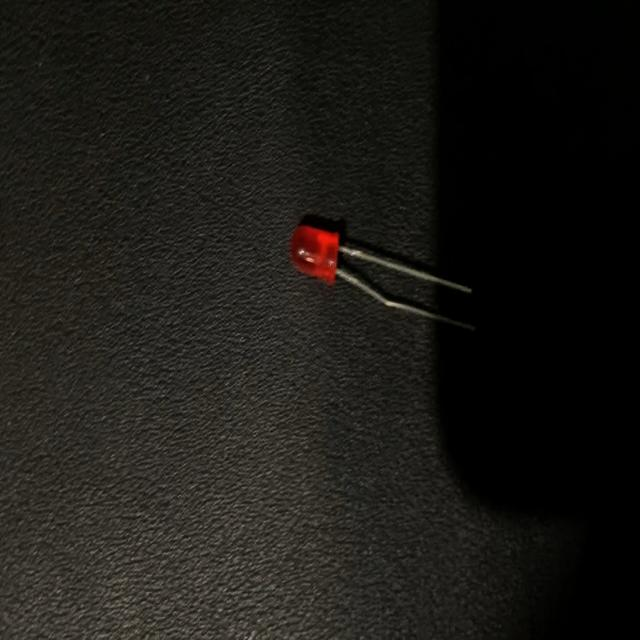LED: (289, 218, 478, 341)
